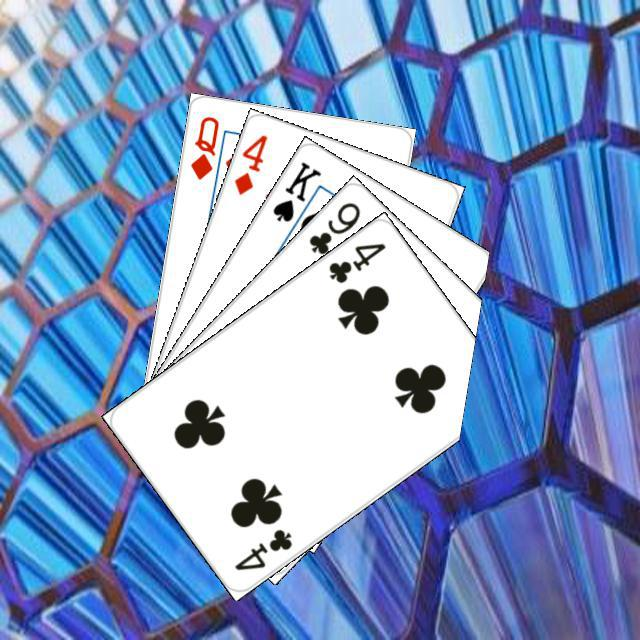4c: (229, 523, 294, 573), (323, 237, 388, 285)
4d: (229, 129, 269, 197)
9c: (304, 197, 362, 256)
Ks: (267, 156, 323, 224)
Qd: (186, 111, 221, 181)
